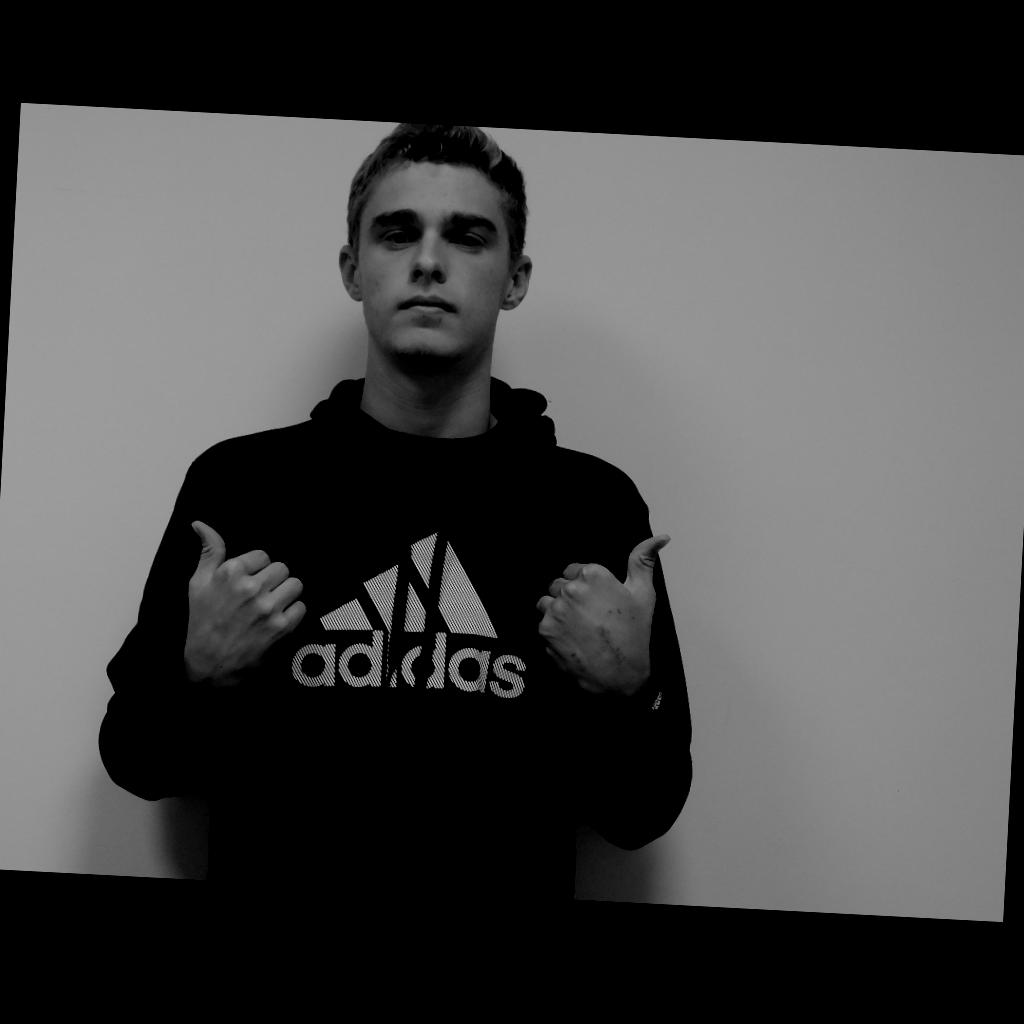have: (184, 510, 670, 702)
